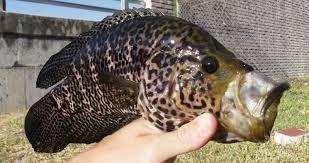Jaguar Gapote: (25, 7, 290, 155)
